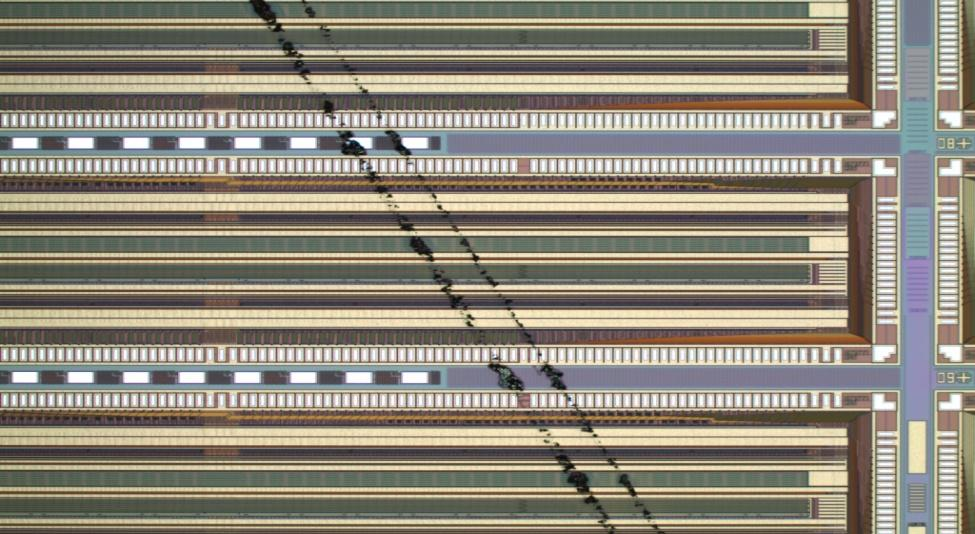SCRATCH: (245, 1, 676, 534)
